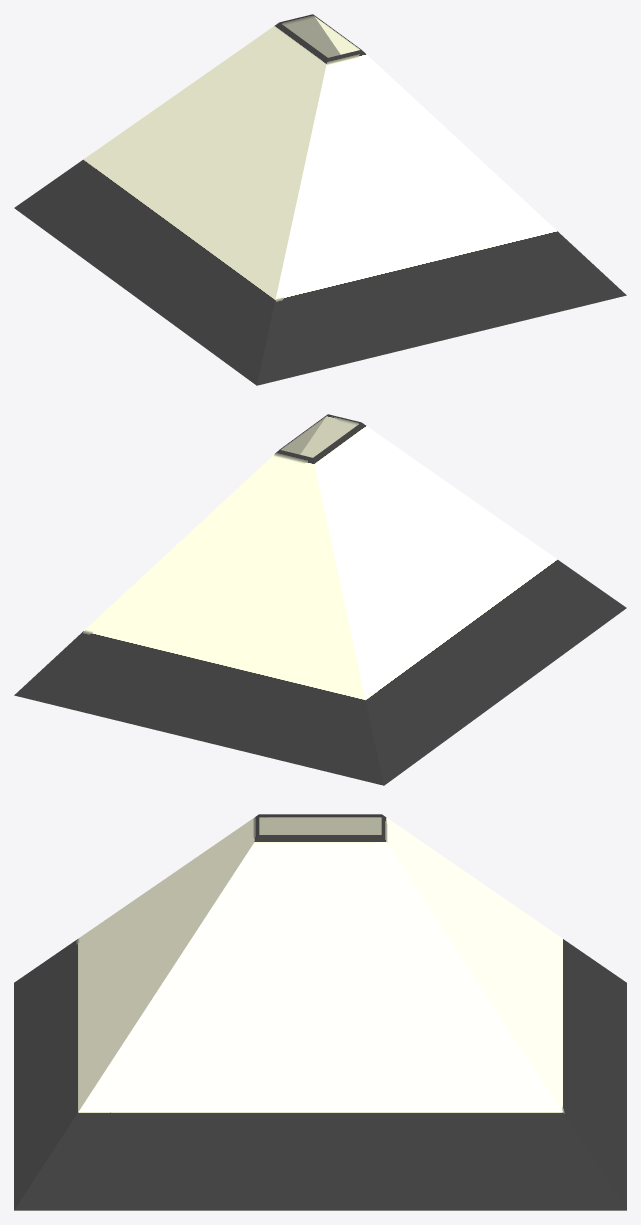
The model's file is ceiling_lamp_2_fake_light_2.glb.
3 views of the same model, one above another, from view 1: azimuth 30°, elevation 25°; view 2: azimuth 150°, elevation 25°; view 3: azimuth 270°, elevation 25° (orthographic). The views are drawn at different scales.
Parts seen in each view (by area): view 1: ceiling_lamp_2_fake_light_2; view 2: ceiling_lamp_2_fake_light_2; view 3: ceiling_lamp_2_fake_light_2.
Boxes of the visible parts, x1=… form: ceiling_lamp_2_fake_light_2: x1=14, y1=14, x2=626, y2=385; ceiling_lamp_2_fake_light_2: x1=14, y1=414, x2=626, y2=785; ceiling_lamp_2_fake_light_2: x1=14, y1=814, x2=626, y2=1210.
Bounding box in the file's own units: 4.4 × 2.45 × 5.
Materials: 1 (1 with a texture image).
